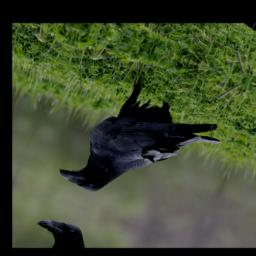Crow: (55, 62, 236, 225)
